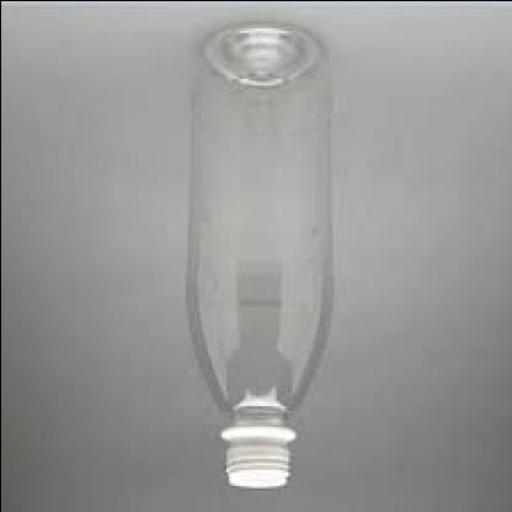plastic: (184, 20, 334, 490), (221, 423, 298, 489)
